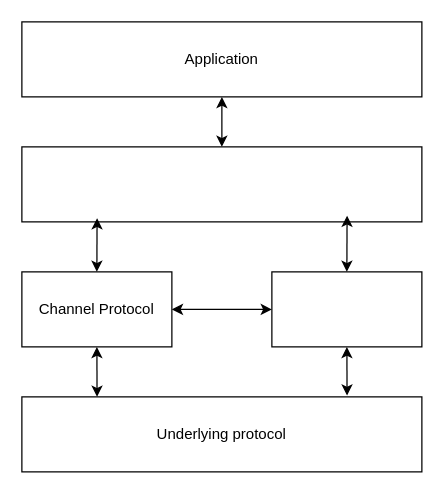
This 444x494 diagram has some shape labels left out. Here are the shapes that lost their labels. From the top down, the box of each, then its label:
(21, 146, 422, 222): Stream Protocol
(271, 271, 422, 347): Negotiation Protocol
